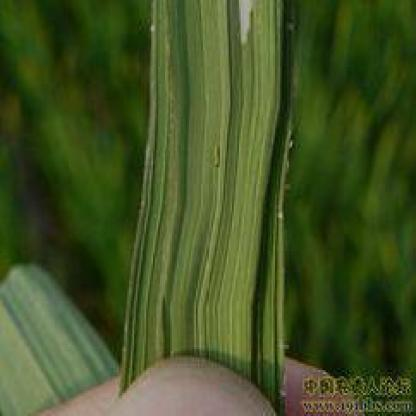leaf-folder: (201, 123, 229, 186)
